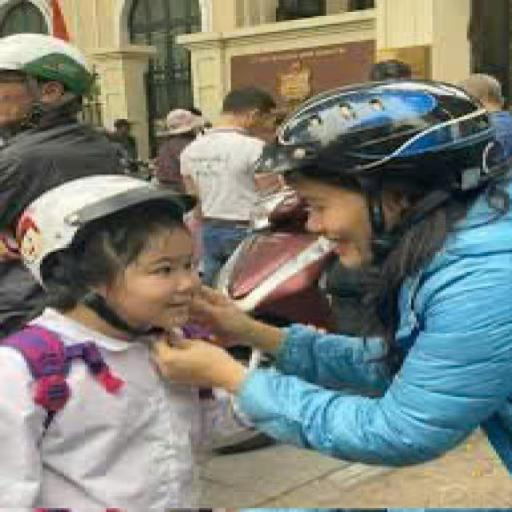with helmet: (252, 75, 505, 190), (10, 172, 194, 282), (0, 26, 102, 105)
